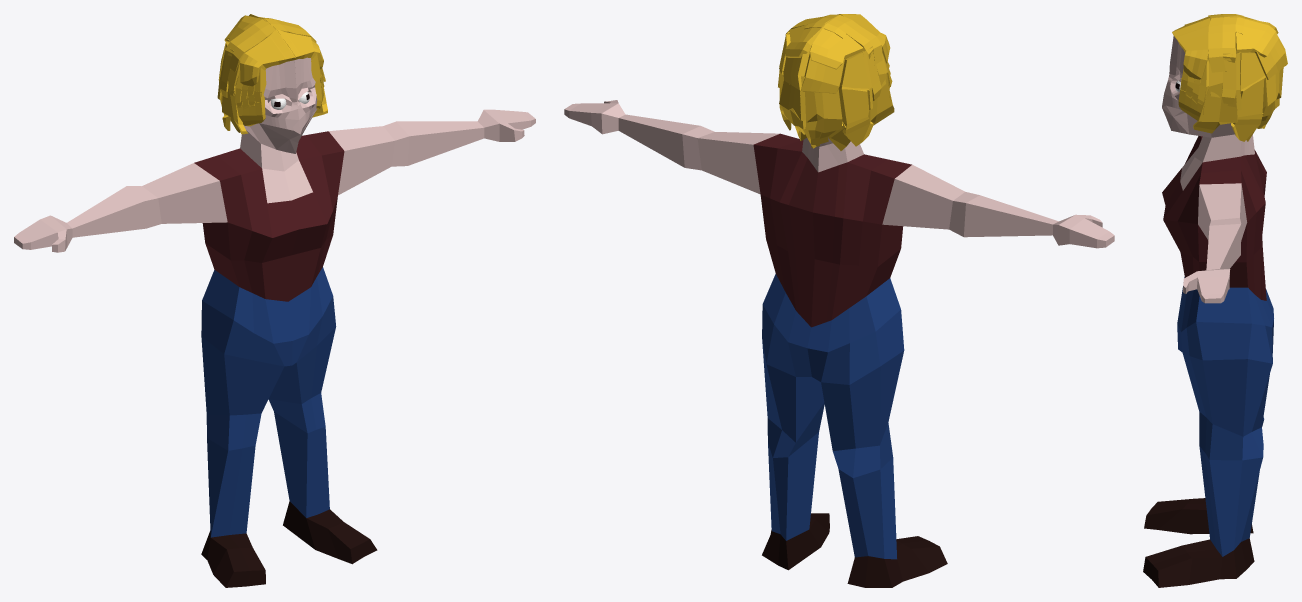
Rendered from karenModelAuto5.fbx.
The picture shows the model from 3 angles, left to right: view 1: azimuth 30°, elevation 25°; view 2: azimuth 150°, elevation 25°; view 3: azimuth 270°, elevation 25°; orthographic projection. The views are drawn at different scales.
Parts seen in each view (by area): view 1: Mesh; view 2: Mesh; view 3: Mesh.
Boxes of the visible parts, left/top/right/bottom form: Mesh: left=14, top=14, right=535, bottom=587; Mesh: left=564, top=14, right=1114, bottom=587; Mesh: left=1143, top=14, right=1287, bottom=587.
Size of the model in its own units: 226 by 220 by 54.09.
